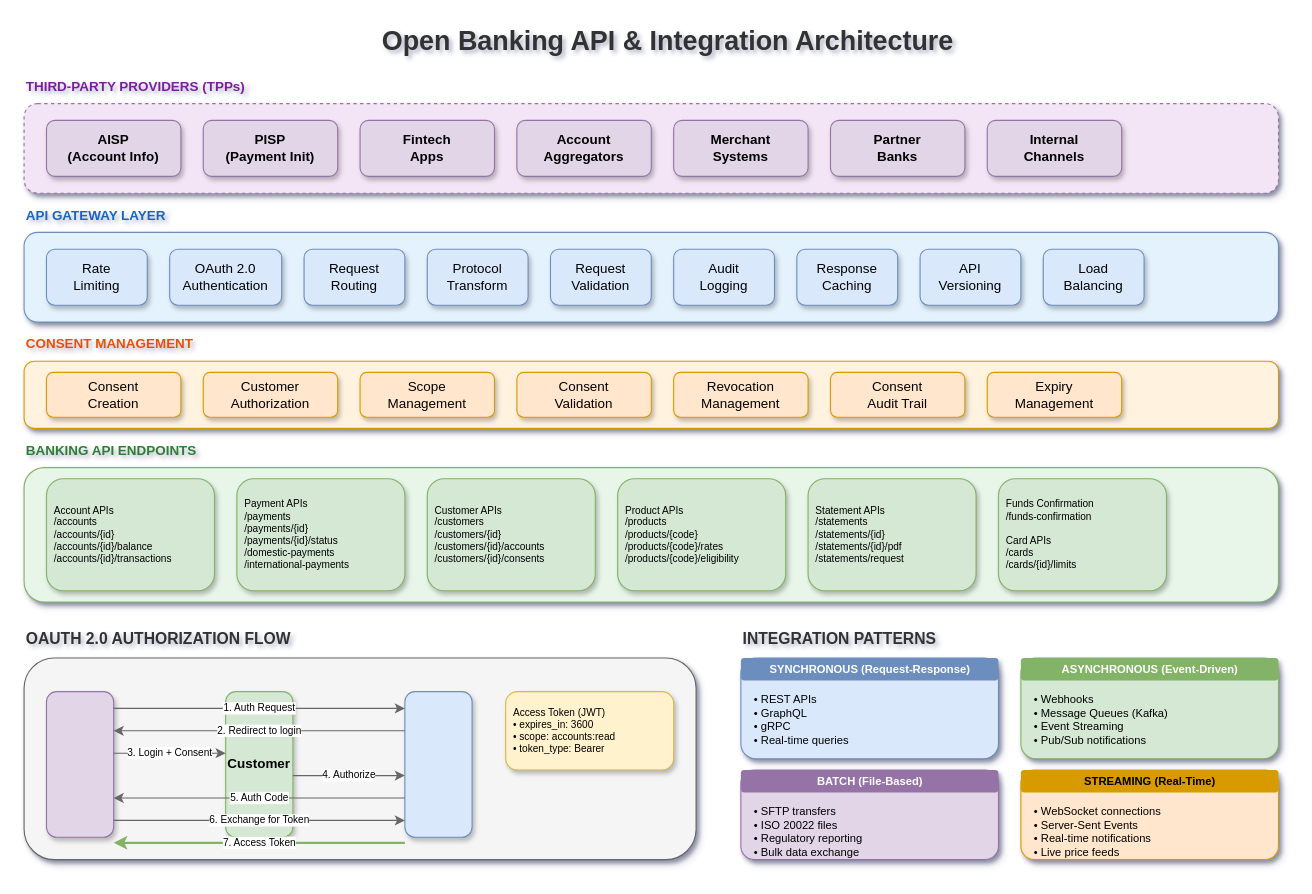
This 1312x894 diagram has some shape labels left out. Here are the shapes that lost their labels. From the top down, the centre of each, then its label:
At pixel 80 765: "TPP".
At pixel 439 765: "Bank".
